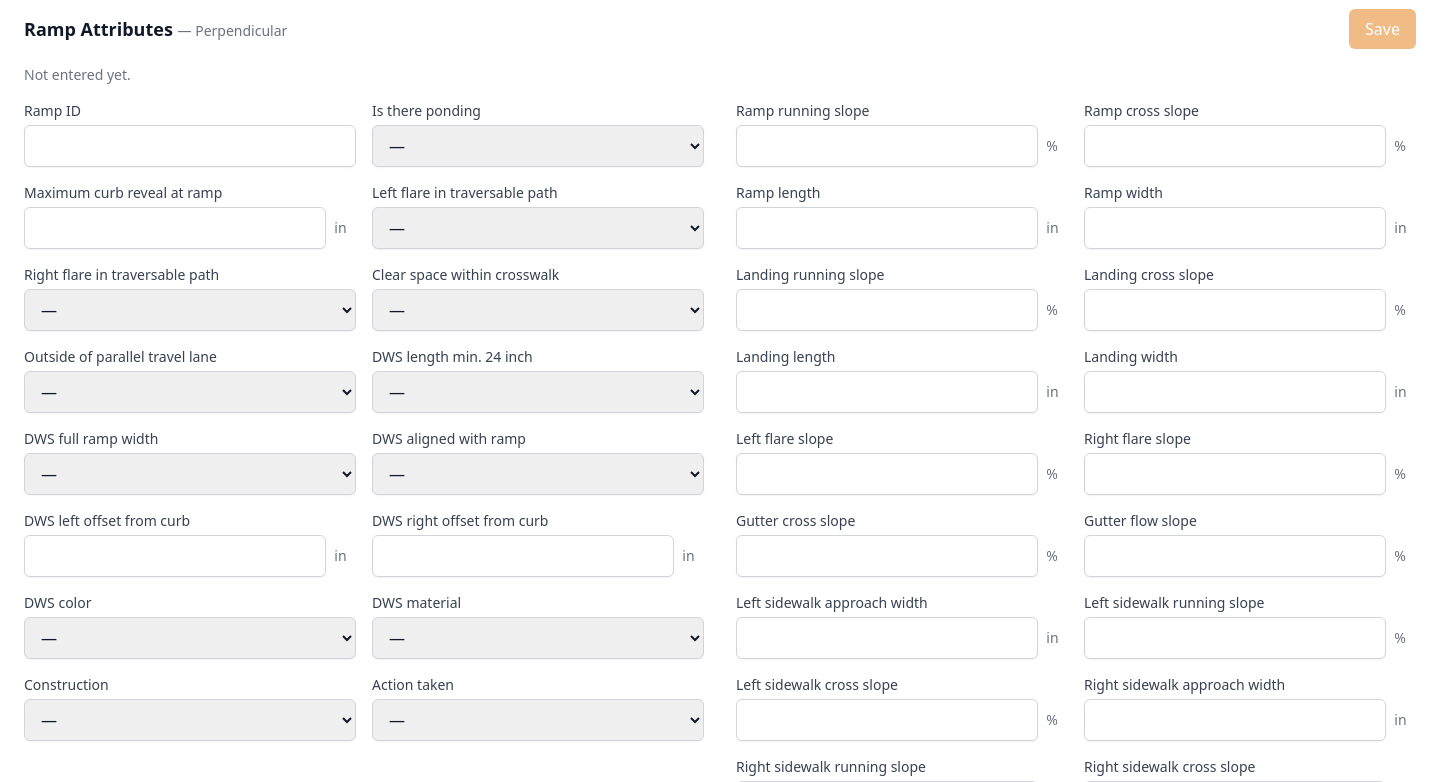
RampAttributesSection › shows a refused save
The image size is (1440, 782).
Type "60" into the field labelled "Ramp width" at point(1235, 228), box [1084, 207, 1386, 249]
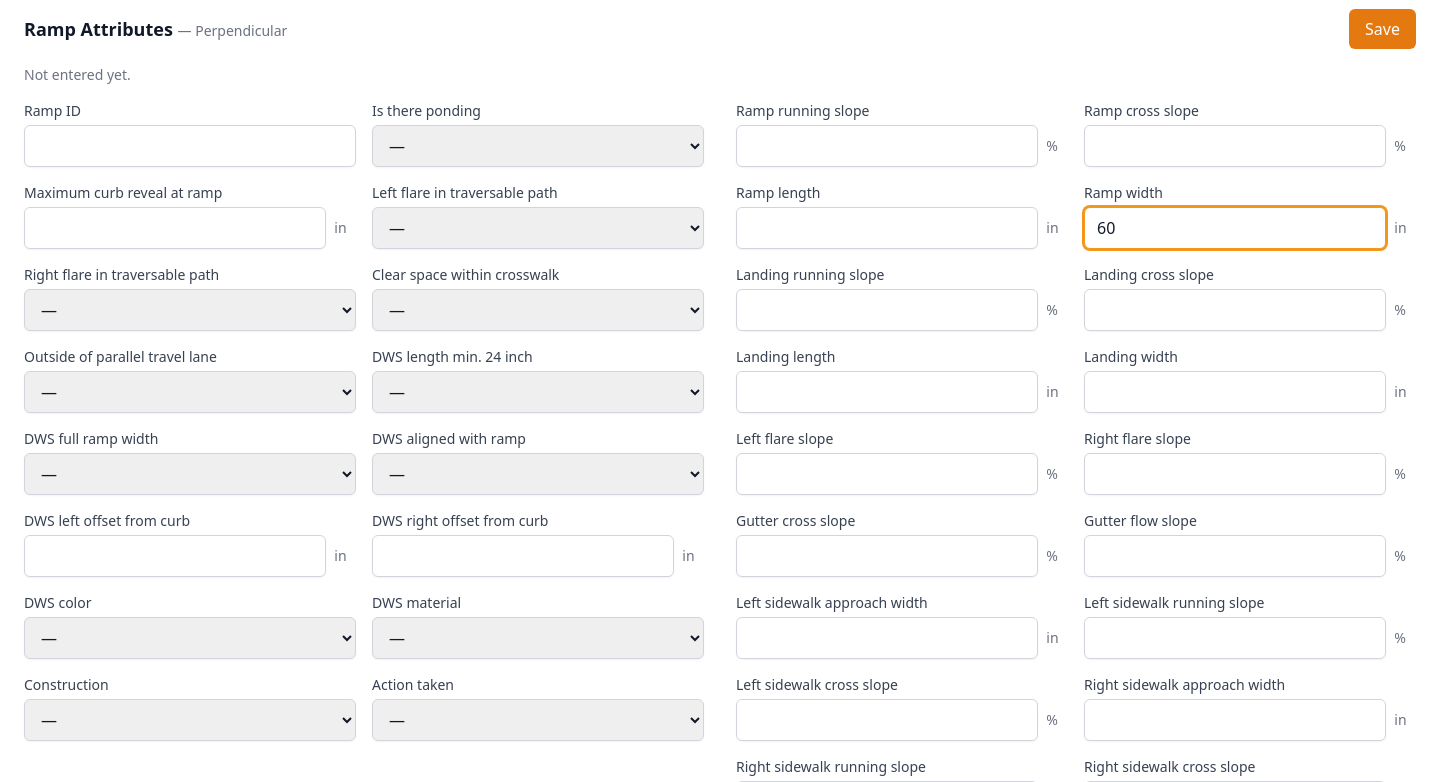
Click the button "Save" at point(1383, 29), box [1349, 9, 1416, 49]
(page scrolled)
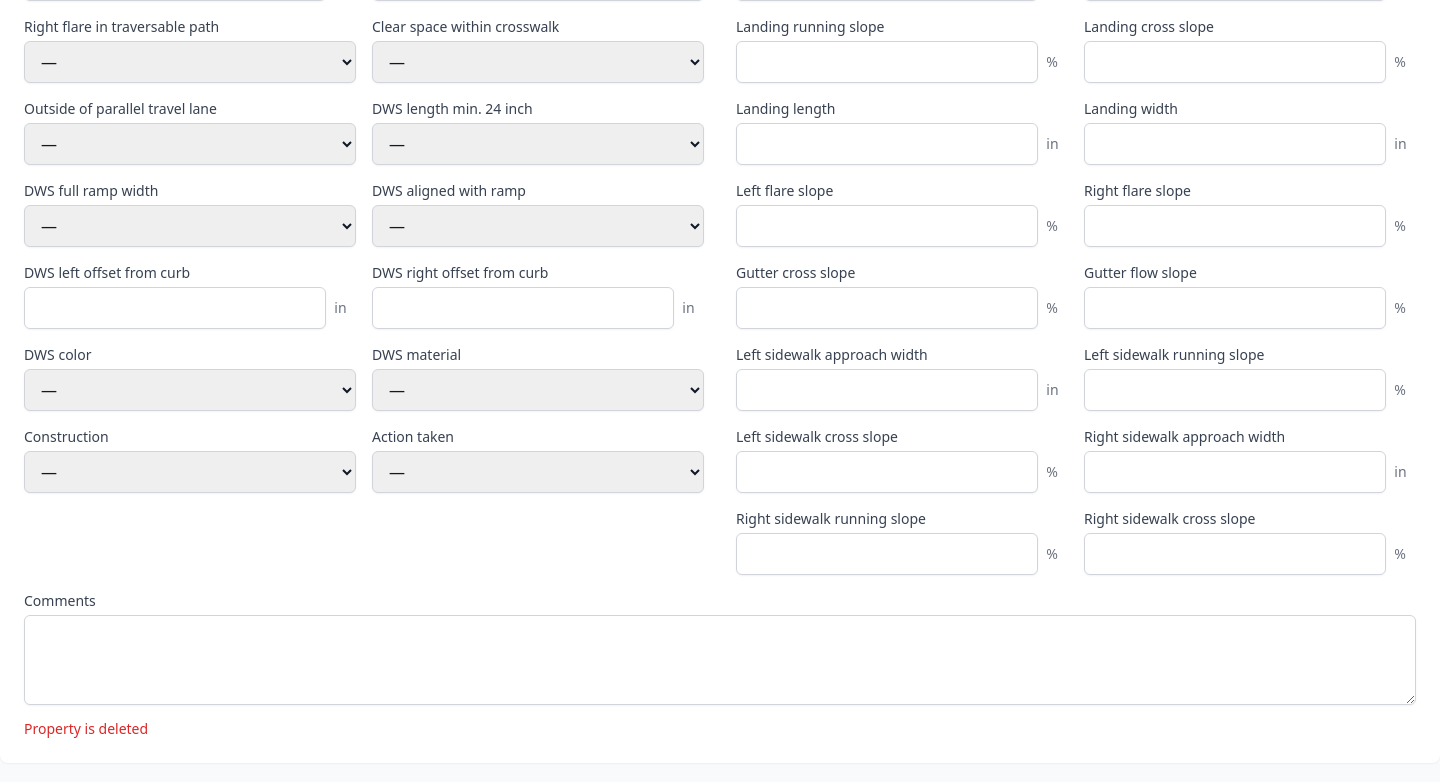
Result: the text "Property is deleted" is shown at [24, 719, 148, 738]
